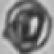correct: (2, 0, 52, 52)
